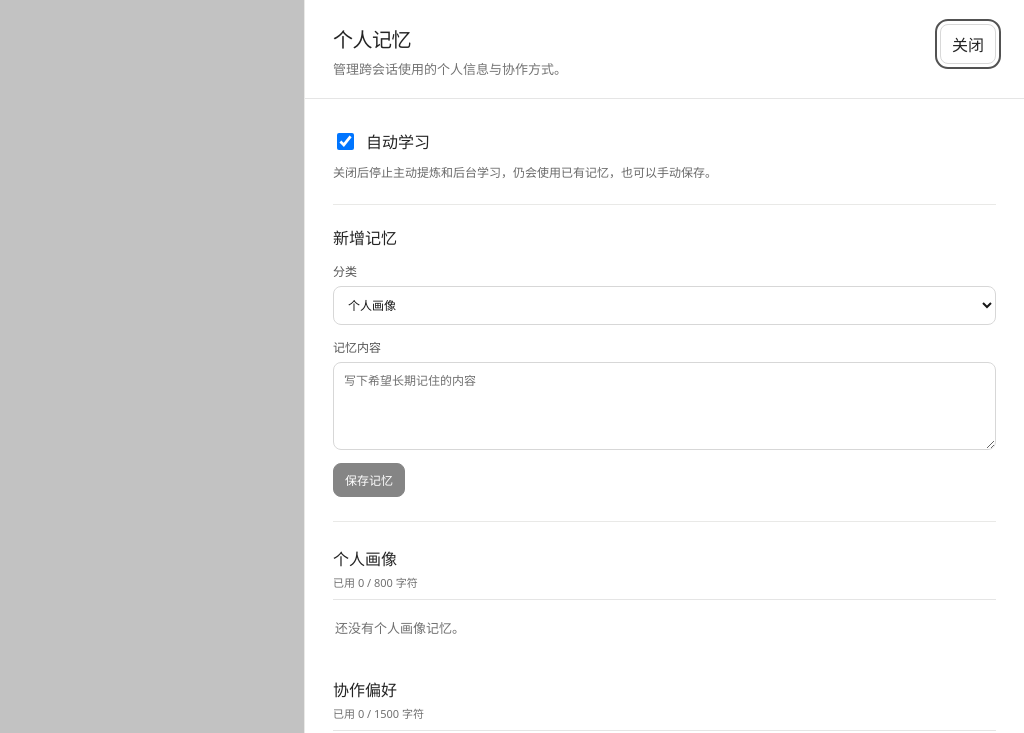
Test: PersonalMemoryPanel › preserves a missing historical CREATED draft until explicit restore
The width and height of the screenshot is (1024, 733).
Type "住在杭州" into the text box labelled "记忆内容" at (664, 406), box [333, 362, 996, 450]
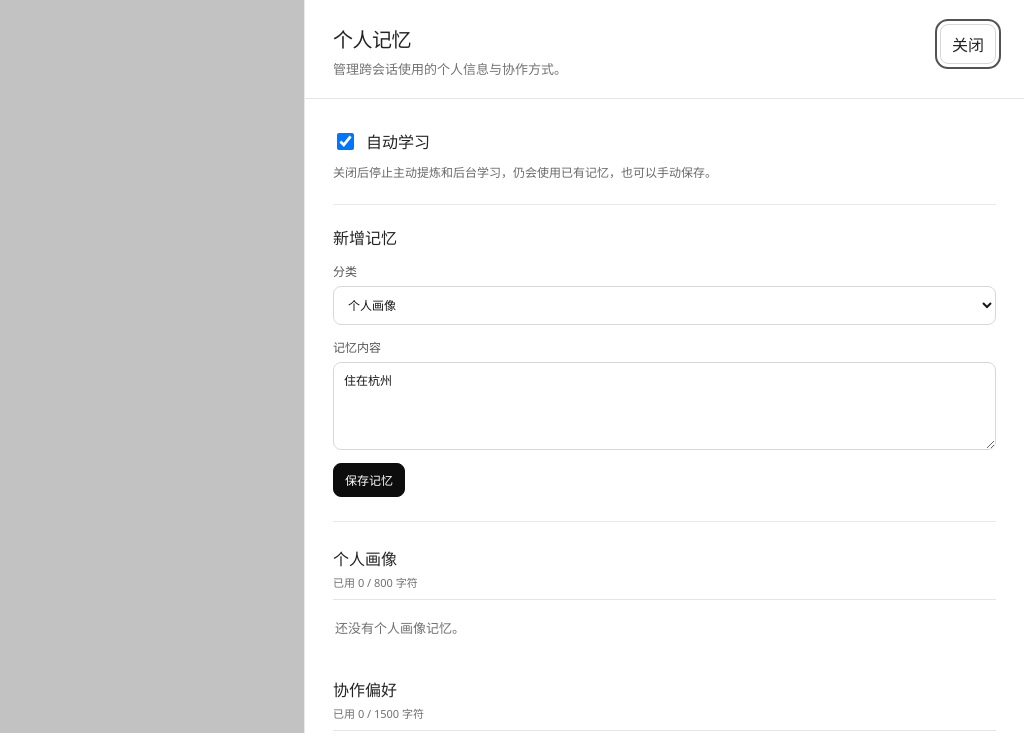
Click the button "保存记忆" at (369, 480), box [333, 463, 405, 497]
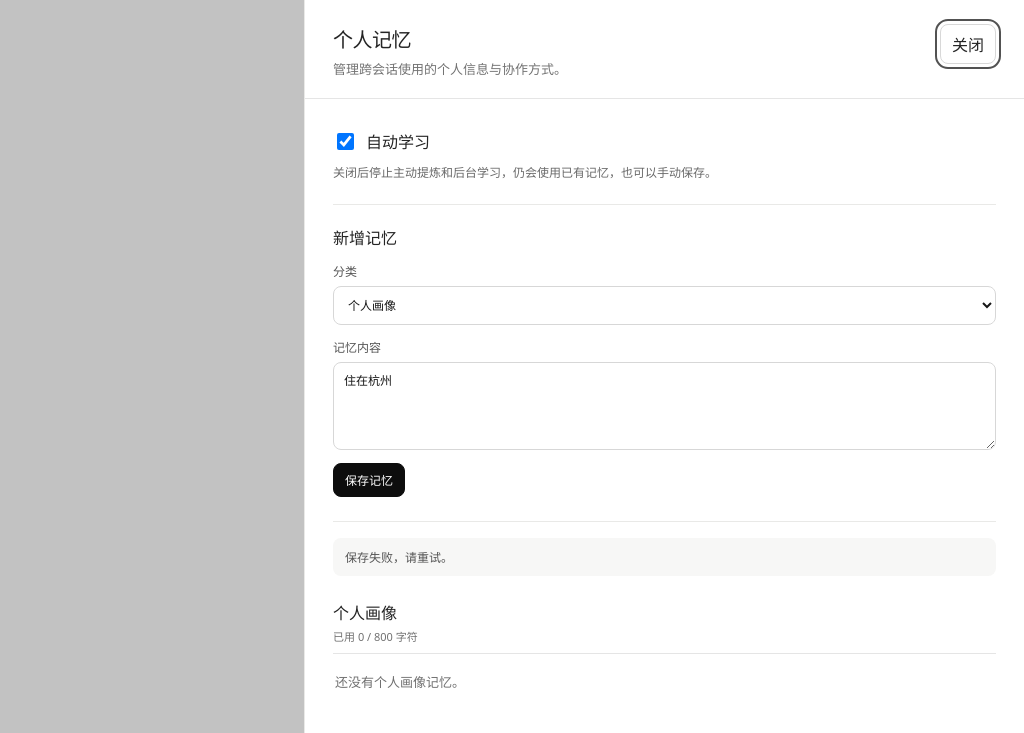
expect the text "保存失败，请重试。" is shown: met, box [333, 538, 996, 576]
Click the button "保存记忆" at (369, 480), box [333, 463, 405, 497]
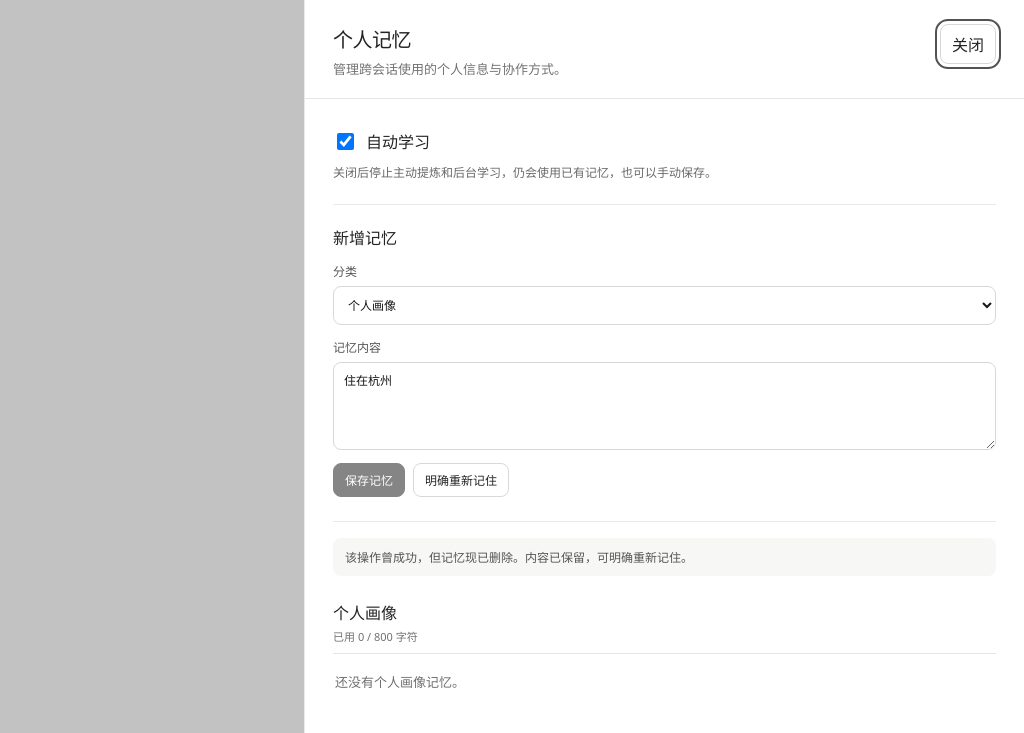
expect the text "该操作曾成功，但记忆现已删除。内容已保留，可明确重新记住。" is shown: met, box [333, 538, 996, 576]
expect the button "保存记忆" is disabled: met, box [333, 463, 405, 497]
Click the button "明确重新记住" at (461, 480), box [413, 463, 509, 497]
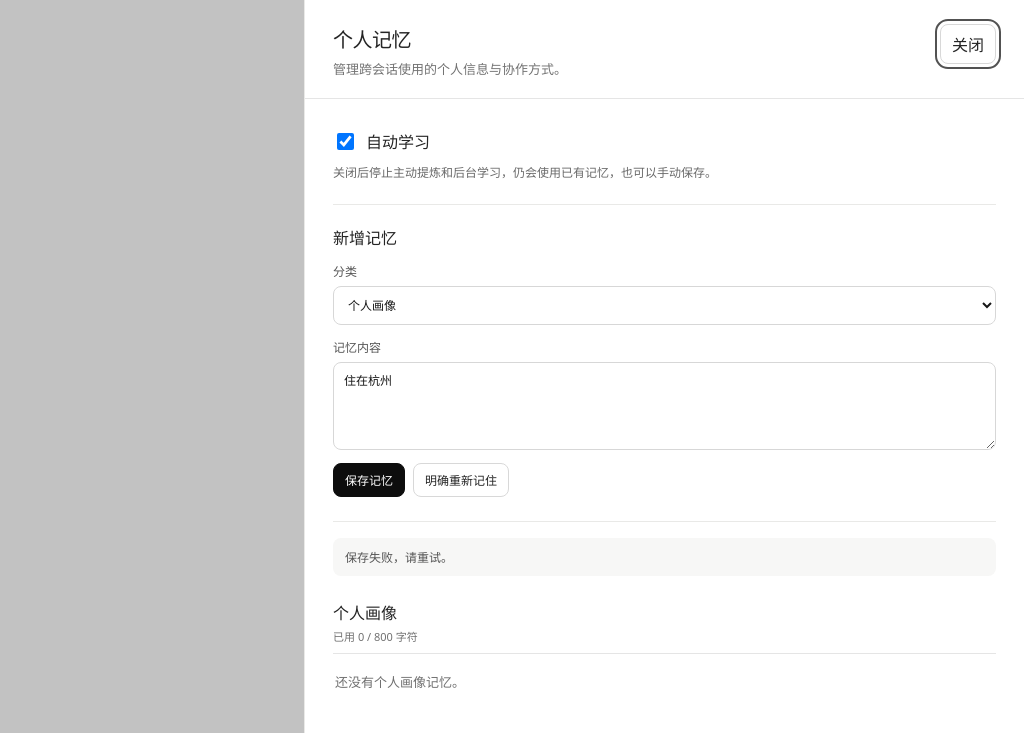
expect the text "保存失败，请重试。" is shown: met, box [333, 538, 996, 576]
Click the button "明确重新记住" at (461, 480), box [413, 463, 509, 497]
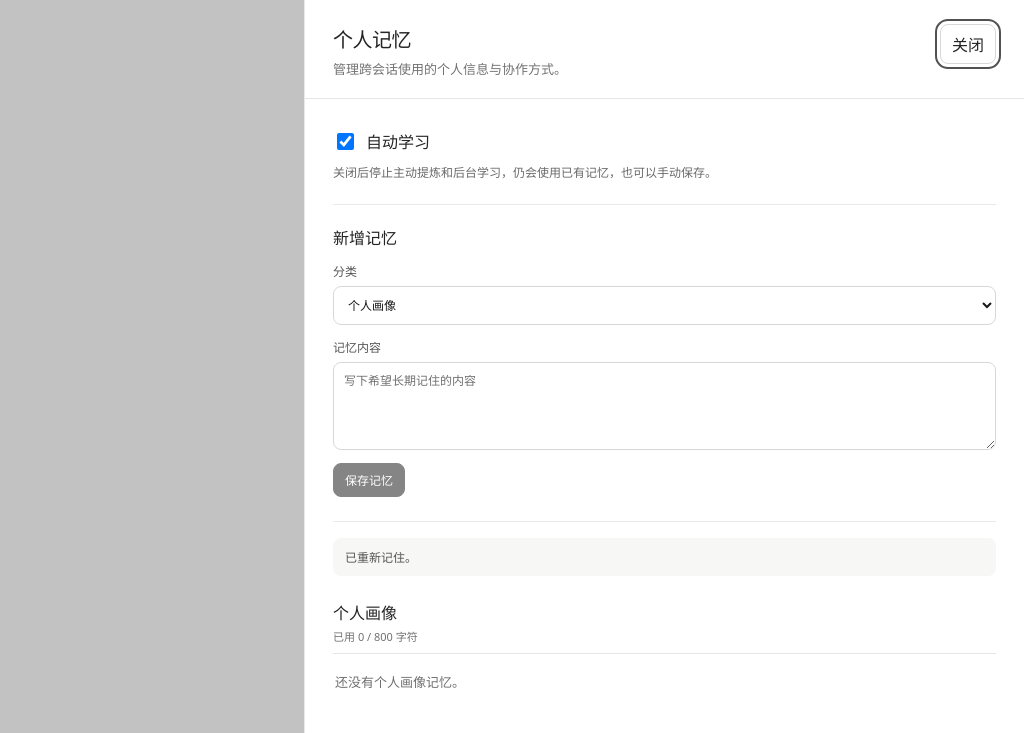
expect the text "已重新记住。" is shown: met, box [333, 538, 996, 576]
